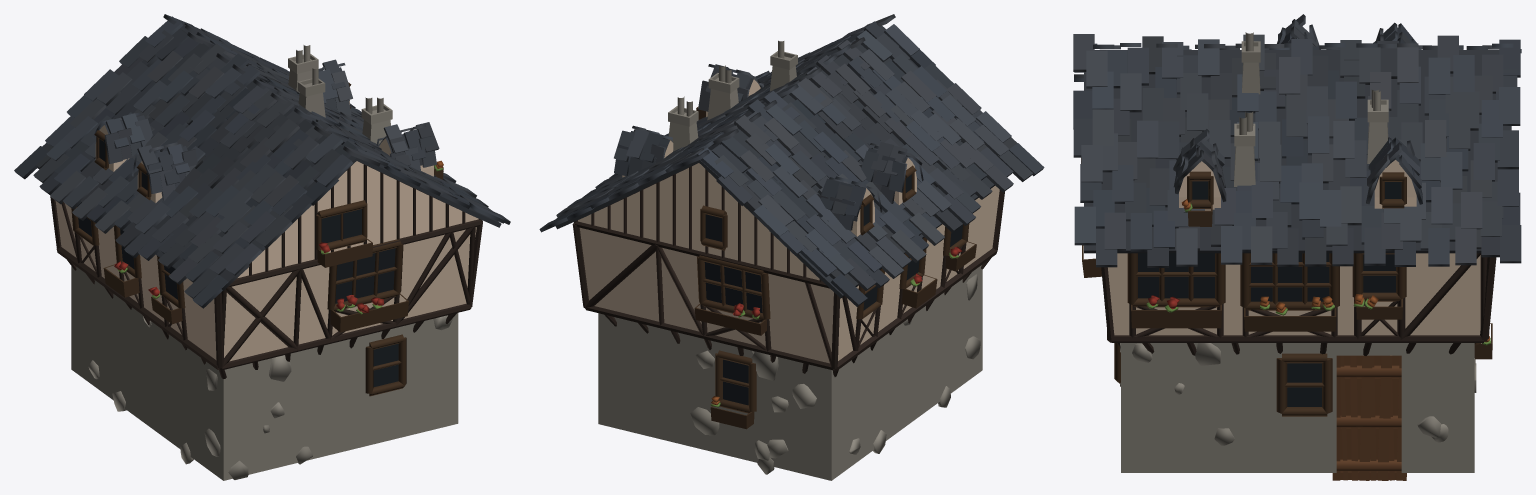
Rendered from house_41.glb.
The picture shows the model from 3 angles, left to right: view 1: azimuth 30°, elevation 25°; view 2: azimuth 150°, elevation 25°; view 3: azimuth 270°, elevation 25°; orthographic projection. The views are drawn at different scales.
Visible parts, largest first — view 1: house_41; view 2: house_41; view 3: house_41.
Part boxes in pixels (bbox=[...]): house_41: bbox=[14, 14, 510, 480]; house_41: bbox=[539, 14, 1044, 480]; house_41: bbox=[1073, 14, 1521, 480].
Size of the model in its own units: 6.54 by 6.79 by 6.82.
